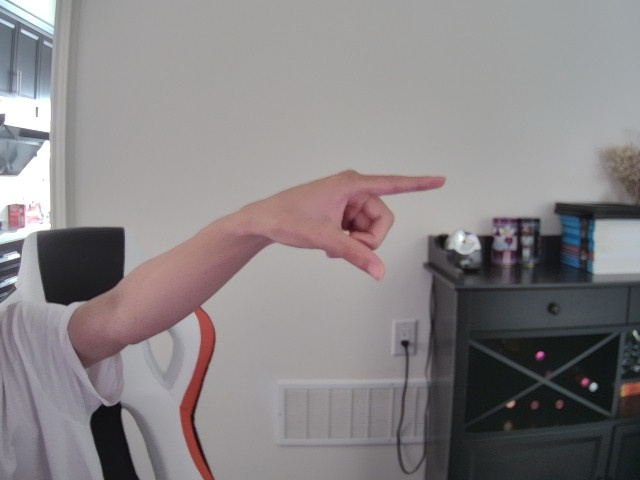P: (236, 154, 447, 291)
